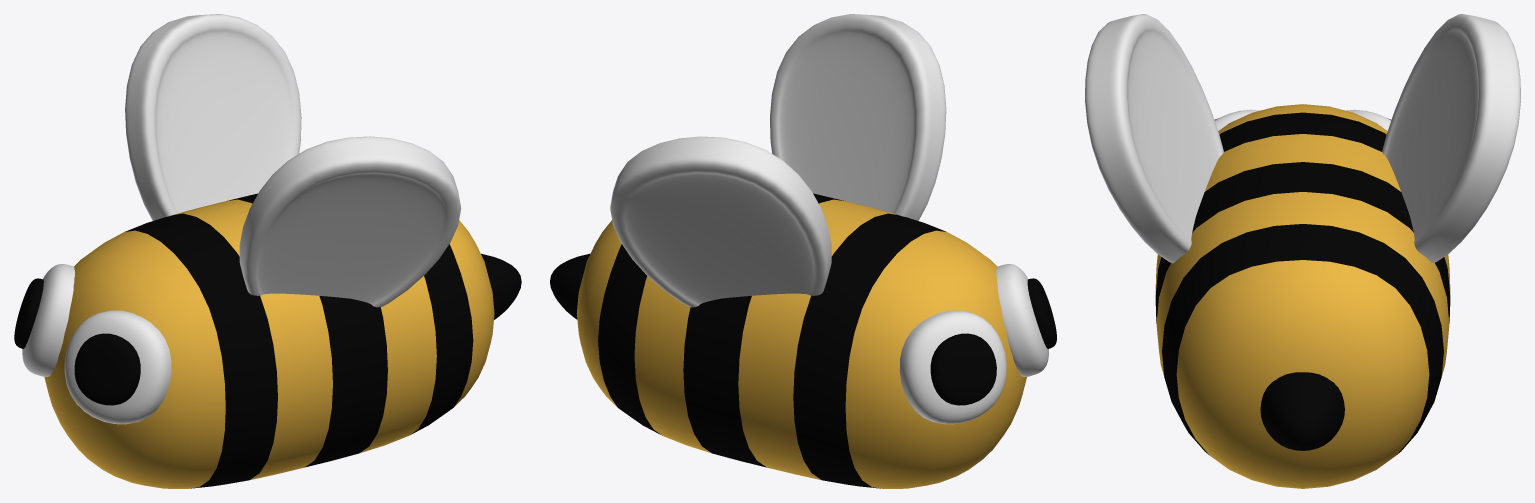
File: Bee_1.fbx
The picture shows the model from 3 angles, left to right: view 1: azimuth 30°, elevation 25°; view 2: azimuth 150°, elevation 25°; view 3: azimuth 270°, elevation 25°; orthographic projection. The views are drawn at different scales.
Parts seen in each view (by area): view 1: Cube.072, Cube.068, Cube.070, Cube.069, Cube.071; view 2: Cube.072, Cube.068, Cube.070, Cube.069, Cube.071; view 3: Cube.072, Cube.068, Cube.071, Cube.070.
Boxes of the visible parts, box(x1,y1,x2,y2) form: Cube.072: box(44, 193, 494, 488); Cube.068: box(125, 14, 461, 307); Cube.070: box(22, 264, 171, 424); Cube.069: box(14, 278, 140, 405); Cube.071: box(481, 253, 521, 319); Cube.072: box(576, 193, 1026, 488); Cube.068: box(610, 14, 946, 307); Cube.070: box(899, 264, 1048, 424); Cube.069: box(930, 278, 1056, 405); Cube.071: box(550, 253, 589, 319); Cube.072: box(1155, 104, 1450, 488); Cube.068: box(1085, 14, 1520, 263); Cube.071: box(1260, 372, 1344, 450); Cube.070: box(1214, 109, 1391, 130).
Size of the model in its own units: 883 by 675 by 654.
